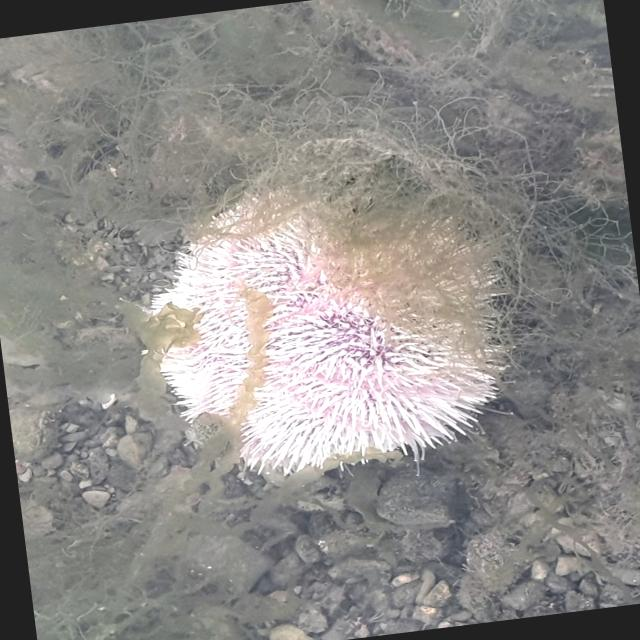Deniz Kestanesi: (108, 157, 530, 508)
